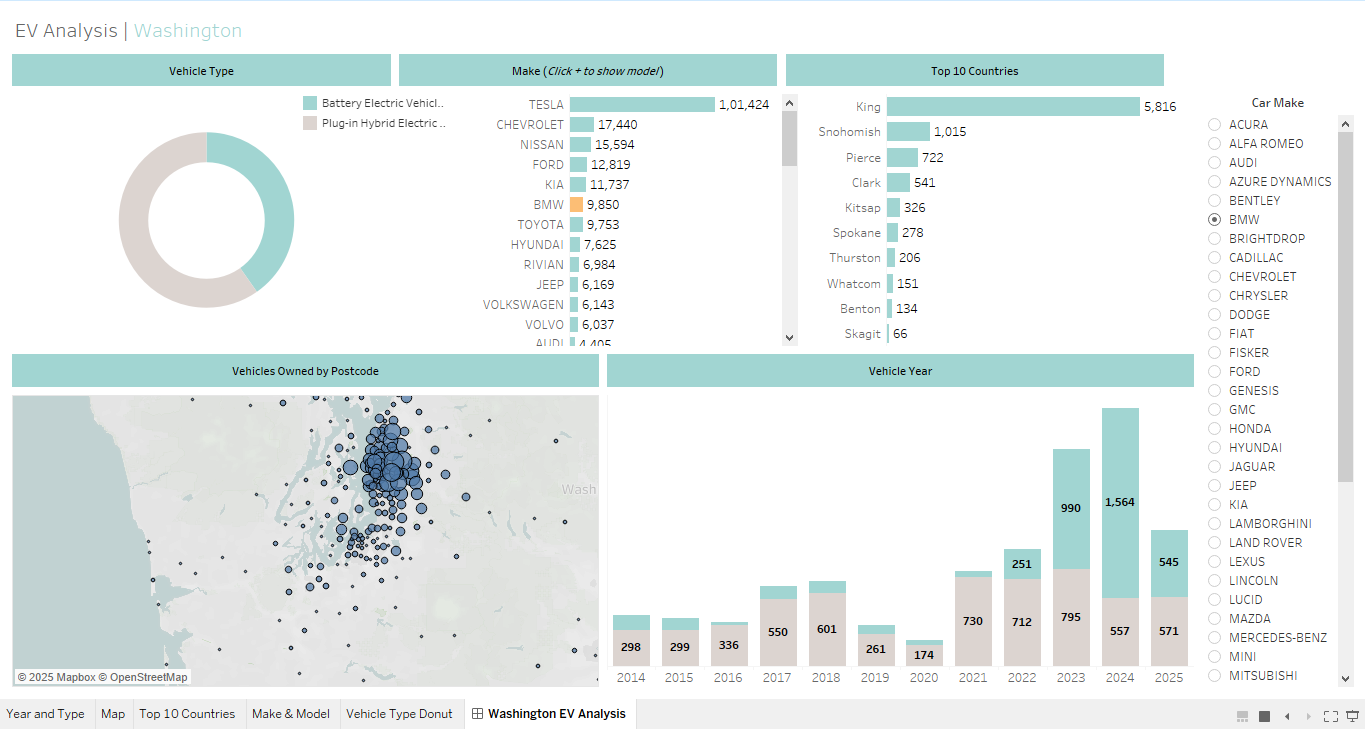

This screenshot's page, from the dashboard's own definition file:
{"tool":"tableau","page":{"name":"Washington EV Analysis ","canvas":[1000,1000],"units":"permille","ordinal":0},"visuals":[{"type":"text","box":[6.9,14.5,986.1,57.9]},{"type":"text","box":[6.9,72.4,283.1,58]},{"type":"text","box":[290,72.4,282.2,58]},{"type":"text","box":[572.2,72.4,282.3,58]},{"type":"parameter","param":"[Parameters].[Parameter 1]","box":[854.5,130.3,138.5,855.2]},{"type":"worksheet","title":"Vehicle Type Donut","mark":"Pie","rows":["Calculation_676102894989615108","Calculation_676102894989615108"],"box":[6.9,130.4,283.1,369.6]},{"type":"worksheet","title":"Make & Model","mark":"Automatic","rows":["Make"],"cols":["DOL Vehicle ID"],"box":[290,130.4,282.2,369.6]},{"type":"worksheet","title":"Top 10 Countries","mark":"Automatic","rows":["County"],"cols":["DOL Vehicle ID"],"box":[572.3,130.4,282.3,369.6]},{"type":"legend","title":"Vehicle Type Donut","param":"[federated.0v5bmgr0333i0v12p55tc0dd4awd].[none:Electric Vehicle Type:nk]","box":[219.9,132.2,112.5,79.7]},{"type":"text","box":[6.9,499.9,423.7,58]},{"type":"text","box":[430.7,499.9,423.9,58]},{"type":"worksheet","title":"Map","mark":"Automatic","box":[6.9,557.9,423.7,427.7]},{"type":"worksheet","title":"Year and Type","mark":"Bar","rows":["DOL Vehicle ID"],"cols":["Model Year"],"box":[430.7,557.9,423.9,427.7]}]}

Visuals, with their boxes on the dashboard's canvas, which has no fixed pixel size, in thousandths of its width and height (x1, y1, x2, y2). These are canvas units, not pixel positions in the 1365x729 screenshot, which may show the page scaled, cropped or inside an application window:
text: [7, 14, 993, 72]
text: [7, 72, 290, 130]
text: [290, 72, 572, 130]
text: [572, 72, 854, 130]
parameter: [854, 130, 993, 986]
"Vehicle Type Donut" worksheet (Pie marks): [7, 130, 290, 500]
"Make & Model" worksheet: [290, 130, 572, 500]
"Top 10 Countries" worksheet: [572, 130, 855, 500]
"Vehicle Type Donut" legend: [220, 132, 332, 212]
text: [7, 500, 431, 558]
text: [431, 500, 855, 558]
"Map" worksheet: [7, 558, 431, 986]
"Year and Type" worksheet (Bar marks): [431, 558, 855, 986]
